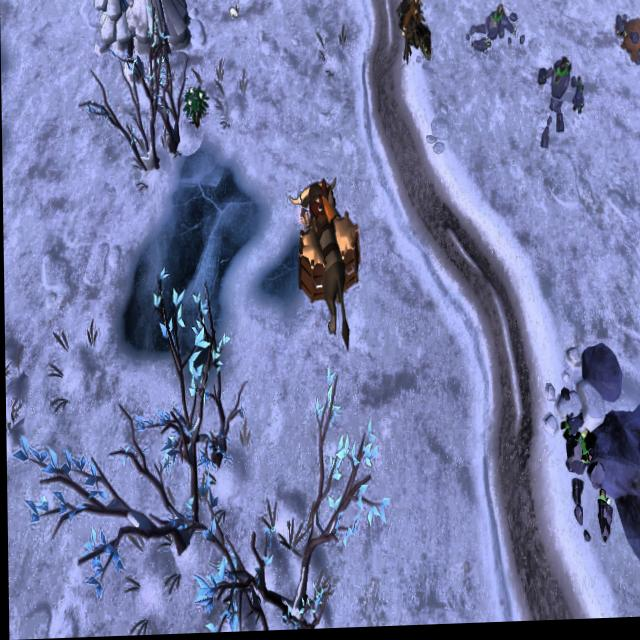fiber_t3: (180, 85, 207, 131)
